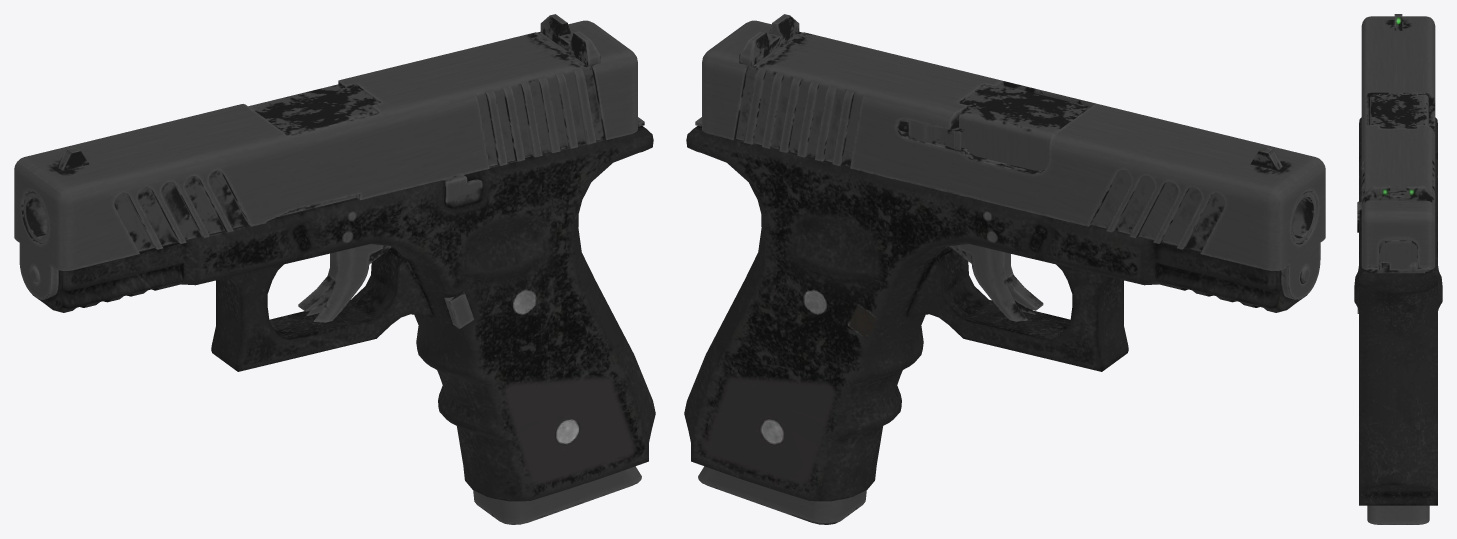
The model's file is weapon_glock19.glb.
3 views of the same model, side by side, from view 1: azimuth 30°, elevation 25°; view 2: azimuth 150°, elevation 25°; view 3: azimuth 270°, elevation 25° (orthographic). The views are drawn at different scales.
Visible parts, largest first — view 1: main_frame_glock19, slide_glock19, barrel_glock19, magazine_glock19, trigger_glock19, rear_sight_glock19; view 2: main_frame_glock19, slide_glock19, barrel_glock19, magazine_glock19, trigger_glock19, rear_sight_glock19; view 3: main_frame_glock19, slide_glock19, barrel_glock19, magazine_glock19, hammer_glock19, rear_sight_glock19, front_sight_glock19.
Part boxes in pixels (x1=…): main_frame_glock19: x1=32, y1=117, x2=655, y2=501; slide_glock19: x1=14, y1=20, x2=637, y2=299; barrel_glock19: x1=23, y1=84, x2=379, y2=243; magazine_glock19: x1=473, y1=466, x2=641, y2=524; trigger_glock19: x1=298, y1=244, x2=391, y2=322; rear_sight_glock19: x1=540, y1=14, x2=600, y2=66; main_frame_glock19: x1=684, y1=117, x2=1307, y2=501; slide_glock19: x1=702, y1=20, x2=1325, y2=299; barrel_glock19: x1=954, y1=85, x2=1316, y2=243; magazine_glock19: x1=698, y1=466, x2=866, y2=524; trigger_glock19: x1=949, y1=244, x2=1043, y2=321; rear_sight_glock19: x1=739, y1=14, x2=799, y2=66; main_frame_glock19: x1=1354, y1=94, x2=1442, y2=505; slide_glock19: x1=1361, y1=16, x2=1435, y2=270; barrel_glock19: x1=1370, y1=94, x2=1428, y2=128; magazine_glock19: x1=1367, y1=505, x2=1429, y2=524; hammer_glock19: x1=1379, y1=238, x2=1417, y2=270; rear_sight_glock19: x1=1364, y1=185, x2=1432, y2=202; front_sight_glock19: x1=1394, y1=14, x2=1402, y2=30.
Size of the model in its own units: 25.22 by 18.27 by 4.43.
1 material, 1 textured.
